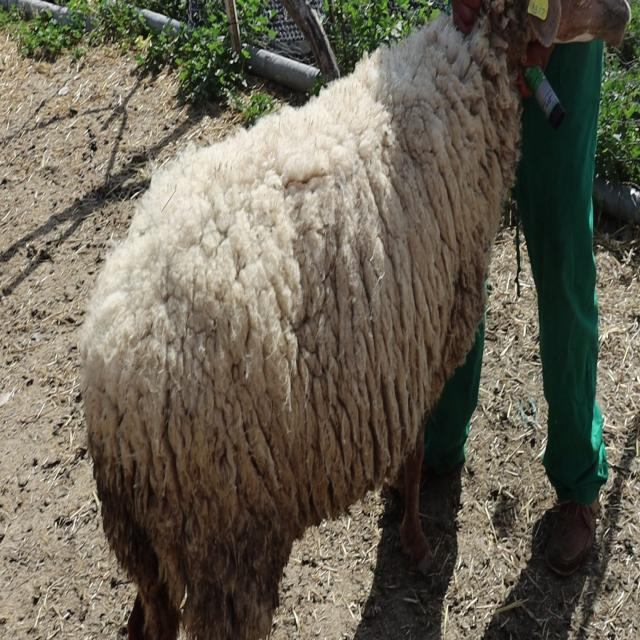Score_5: (80, 0, 630, 639)
